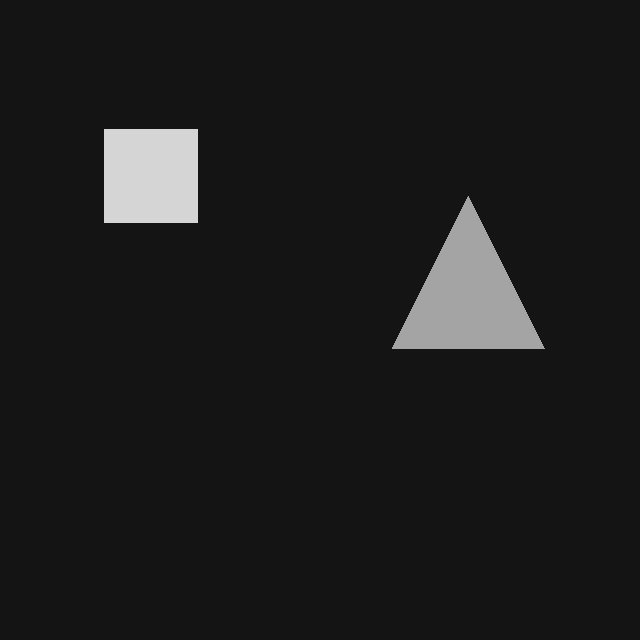square: (104, 129, 197, 222)
triangle: (392, 196, 544, 348)
